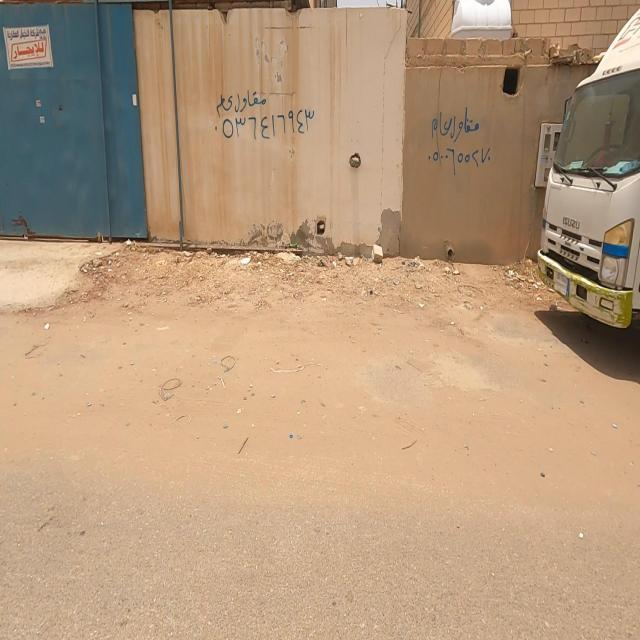Graffiti: (427, 108, 493, 177), (215, 96, 315, 141)
